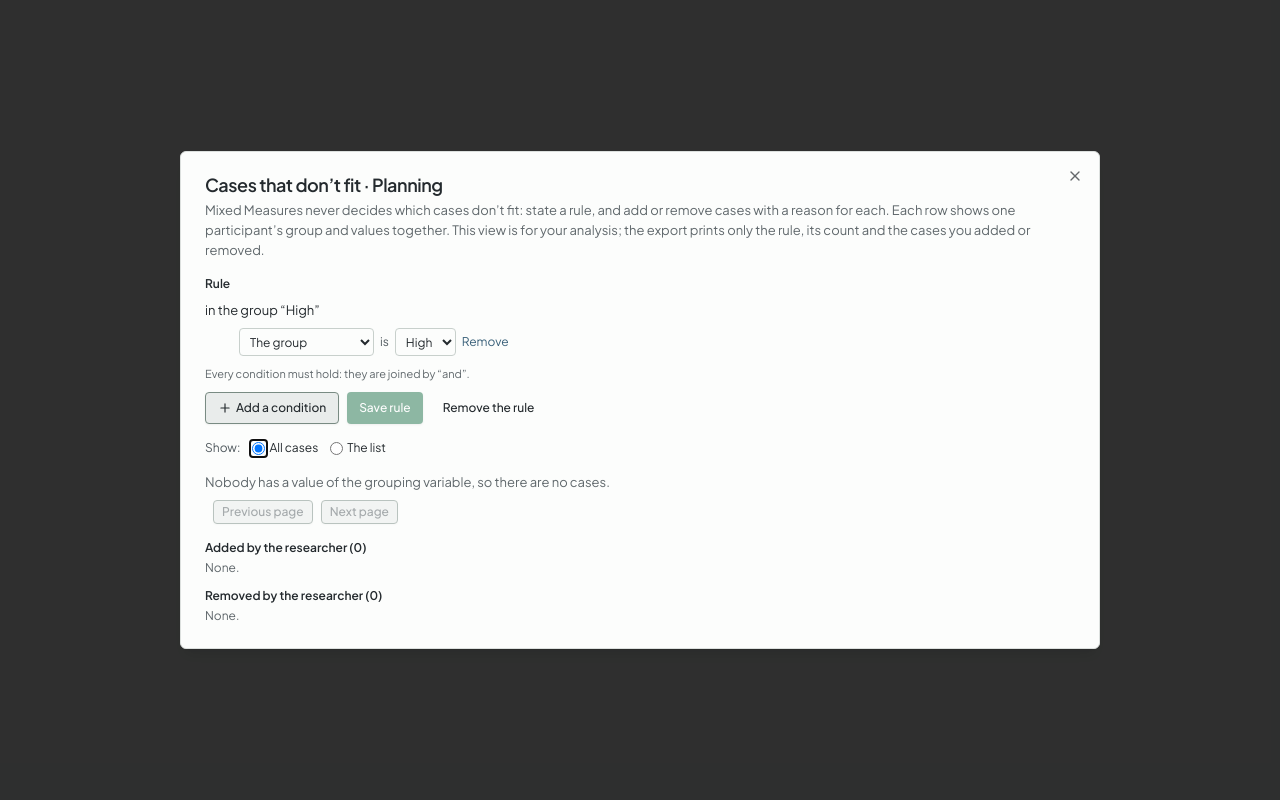
Scenario: #1661 — the sentence is the DRAFT’s, never the saved rule’s, once the lines are drawn › turning the saved line into an unfinished one: counted, not the saved rule
Select "Training hours" in the dropdown named "Condition 1: what it checks". click: (306, 342)
box: [239,328,374,356]
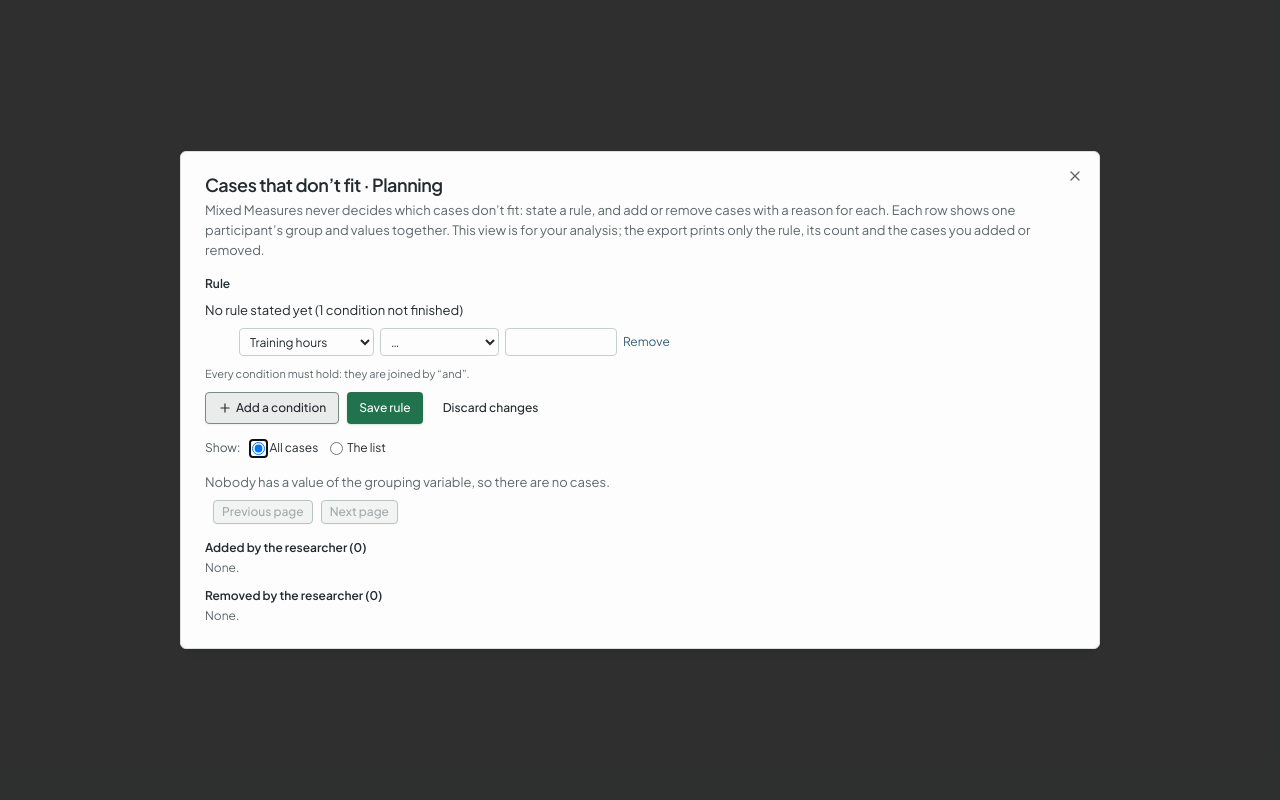
expect the text "No rule stated yet (1 condition not finished)" is shown: met, box [205,302,463,318]
Click the button "Discard changes". click: (491, 408)
box: [431,392,550,424]
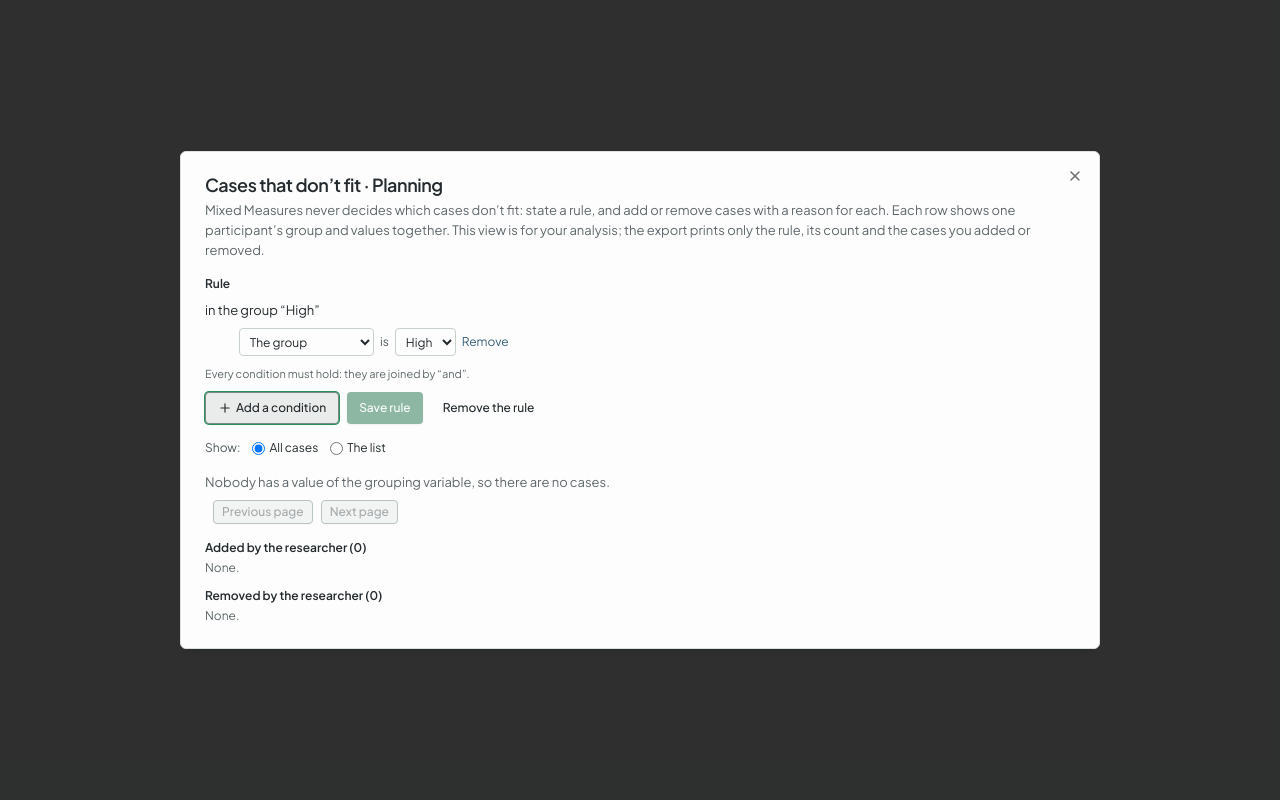
expect the text "in the group “High”" is shown: met, box [205,302,320,318]
